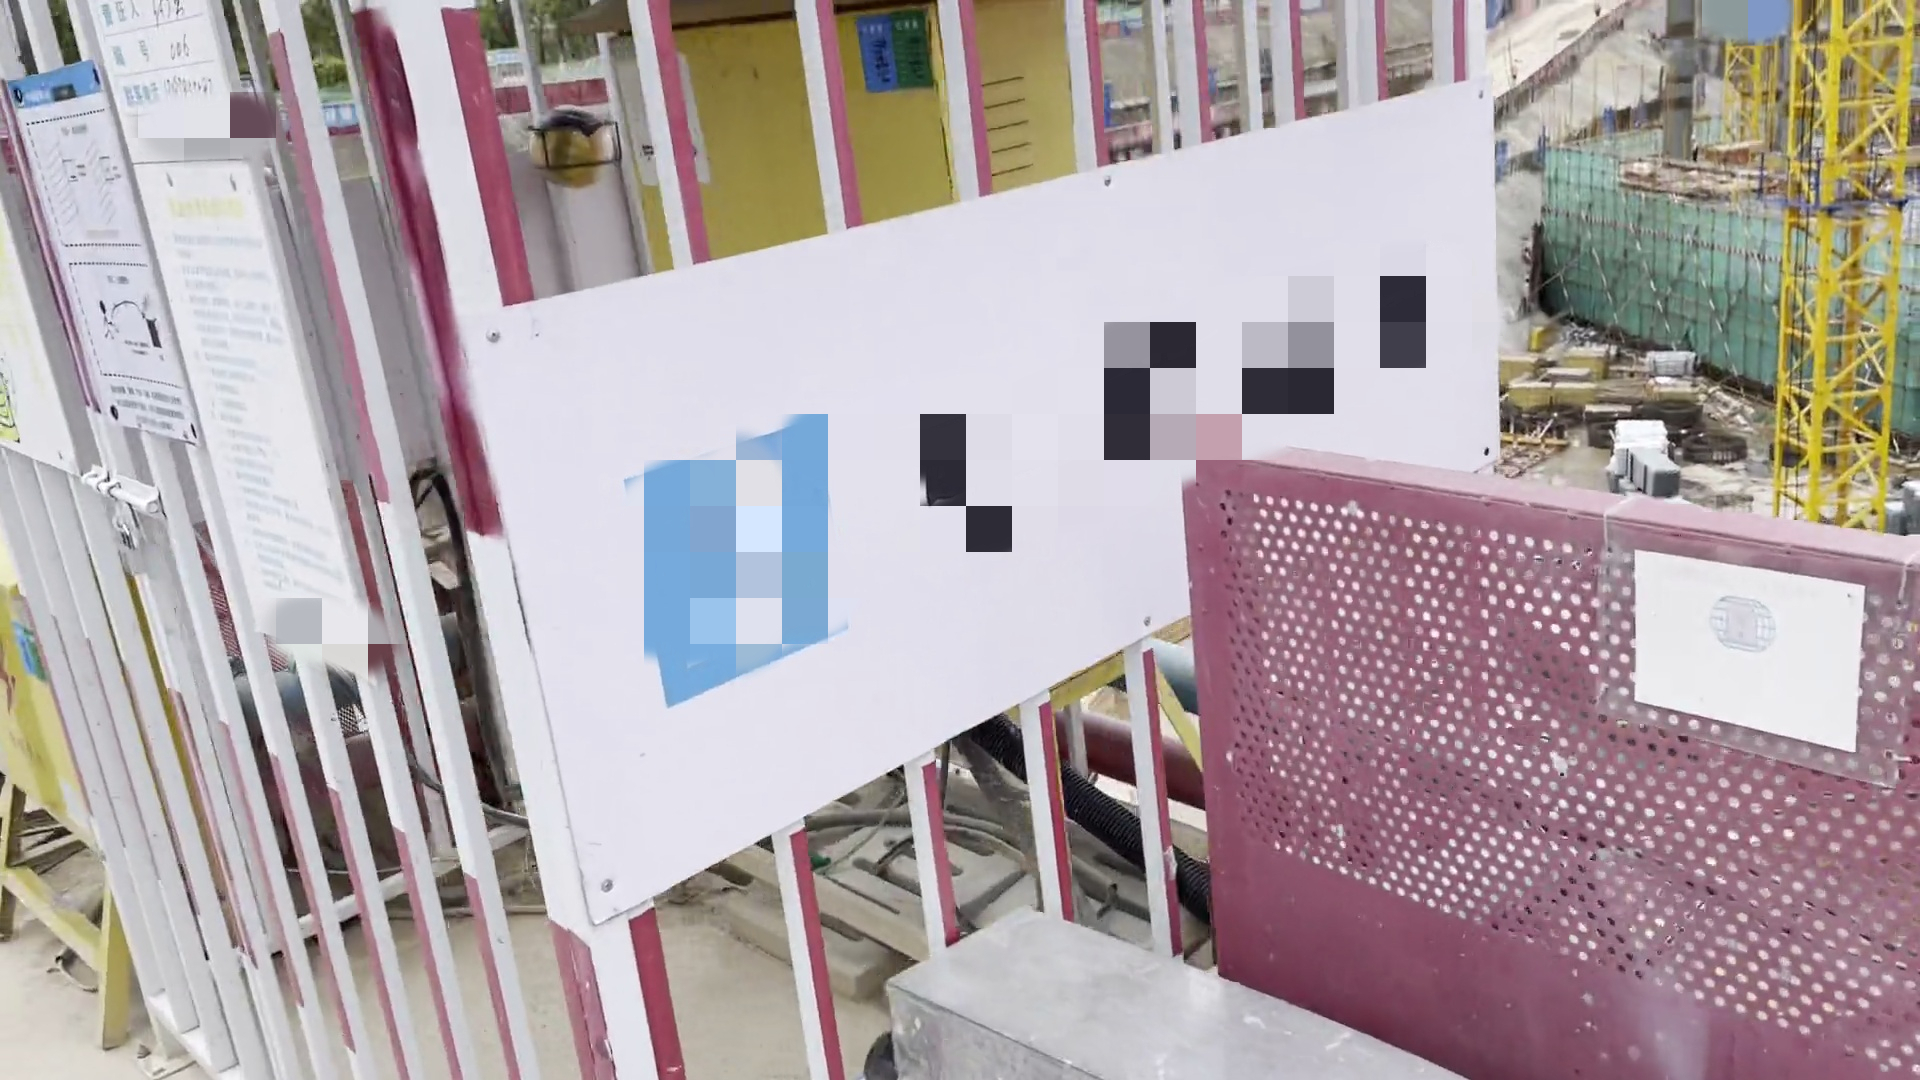board: (1499, 348, 1607, 411)
ebox: (545, 8, 1154, 328), (3, 574, 214, 1059)
fence: (1168, 447, 1920, 1080)
scaffold: (1611, 418, 1669, 465), (1644, 345, 1691, 386)
slogan: (335, 80, 1560, 963), (1, 3, 367, 680)
